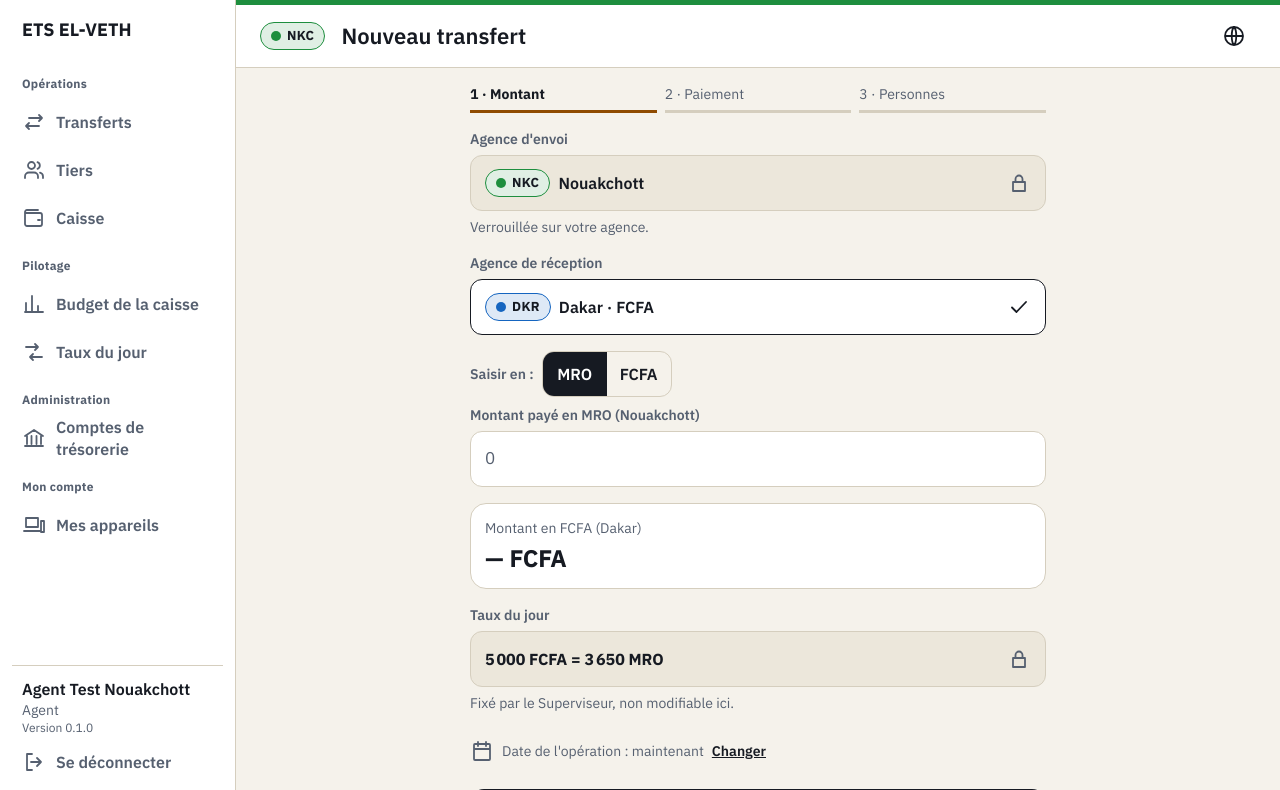
Scenario: Création d’un transfert — Agent de Nouakchott › refuse de continuer tant que la répartition ne fait pas le total
Type "912 500" into the field labelled "Montant payé en MRO (Nouakchott)" at x=758, y=459, box [471, 433, 1045, 485]
(page scrolled)
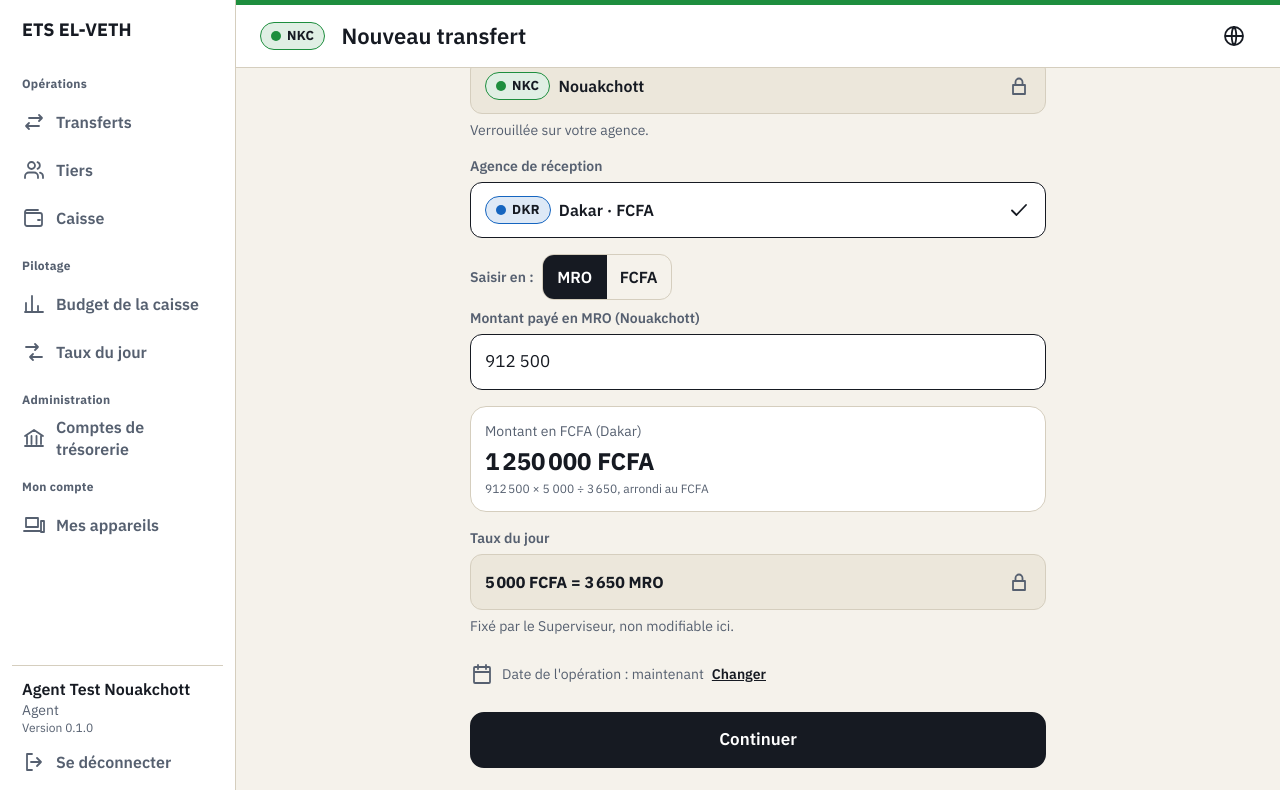
Check: the text "1 250 000 FCFA" is shown, box [485, 445, 654, 477]
Click the button "Continuer" at x=758, y=740, box [470, 712, 1046, 768]
(page scrolled)
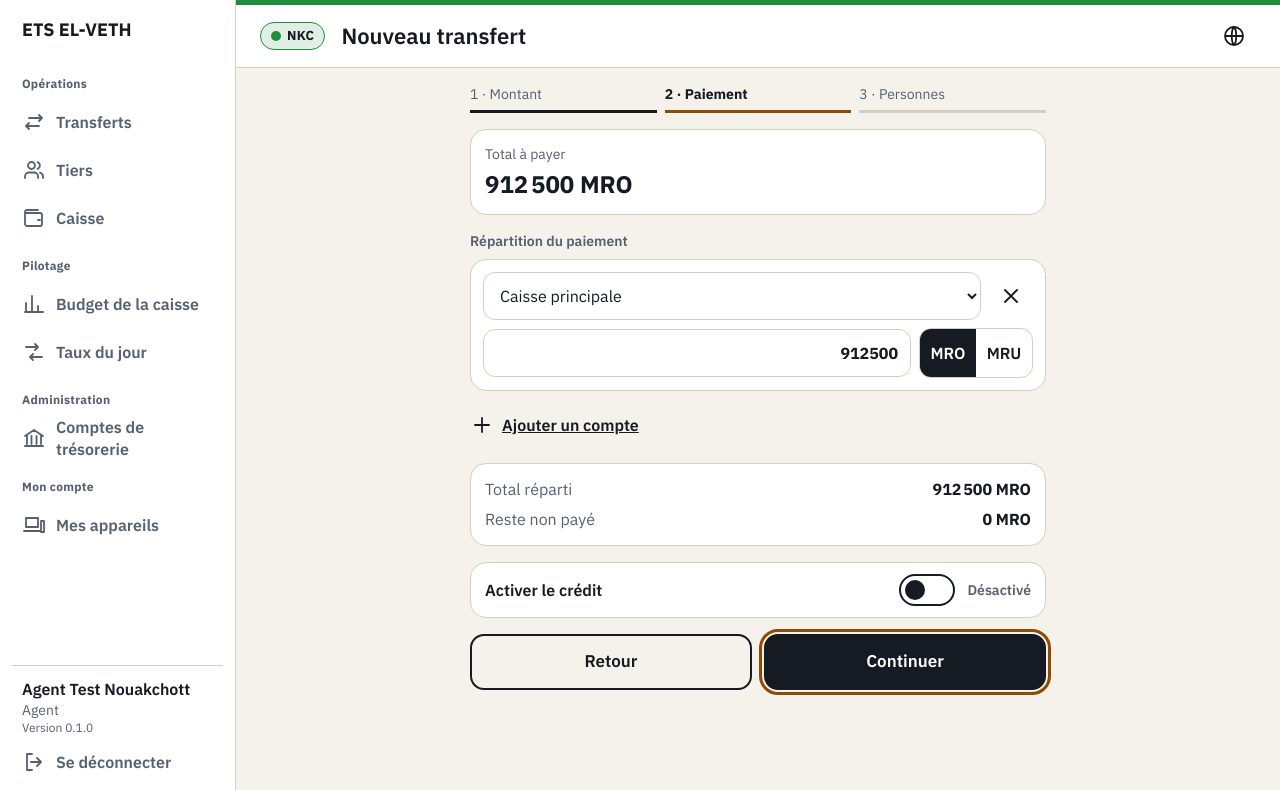
Replace the text in the field named "Montant de la ligne 1" with "800000" at x=697, y=353, box [483, 329, 911, 377]
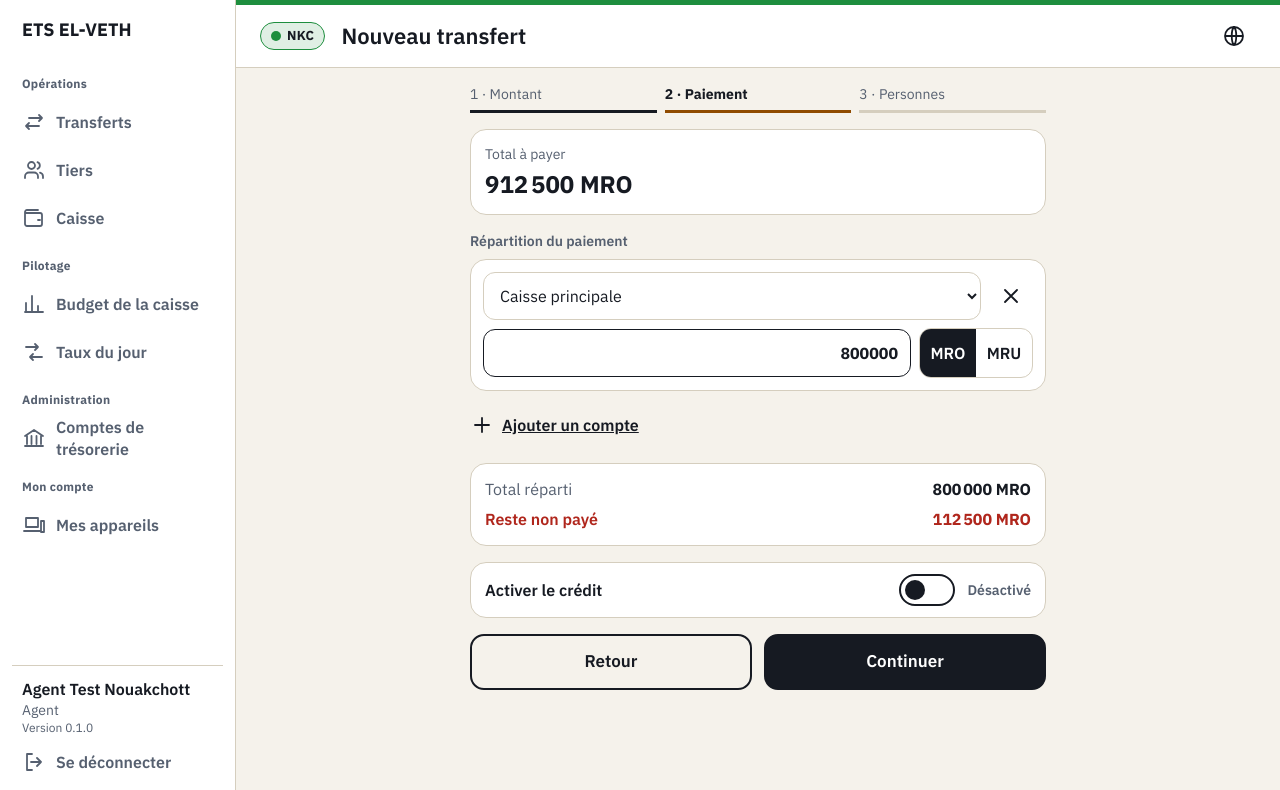
Check: the text "112 500 MRO" is shown, box [933, 508, 1031, 531]
Click the button "Continuer" at x=905, y=662, box [764, 634, 1046, 690]
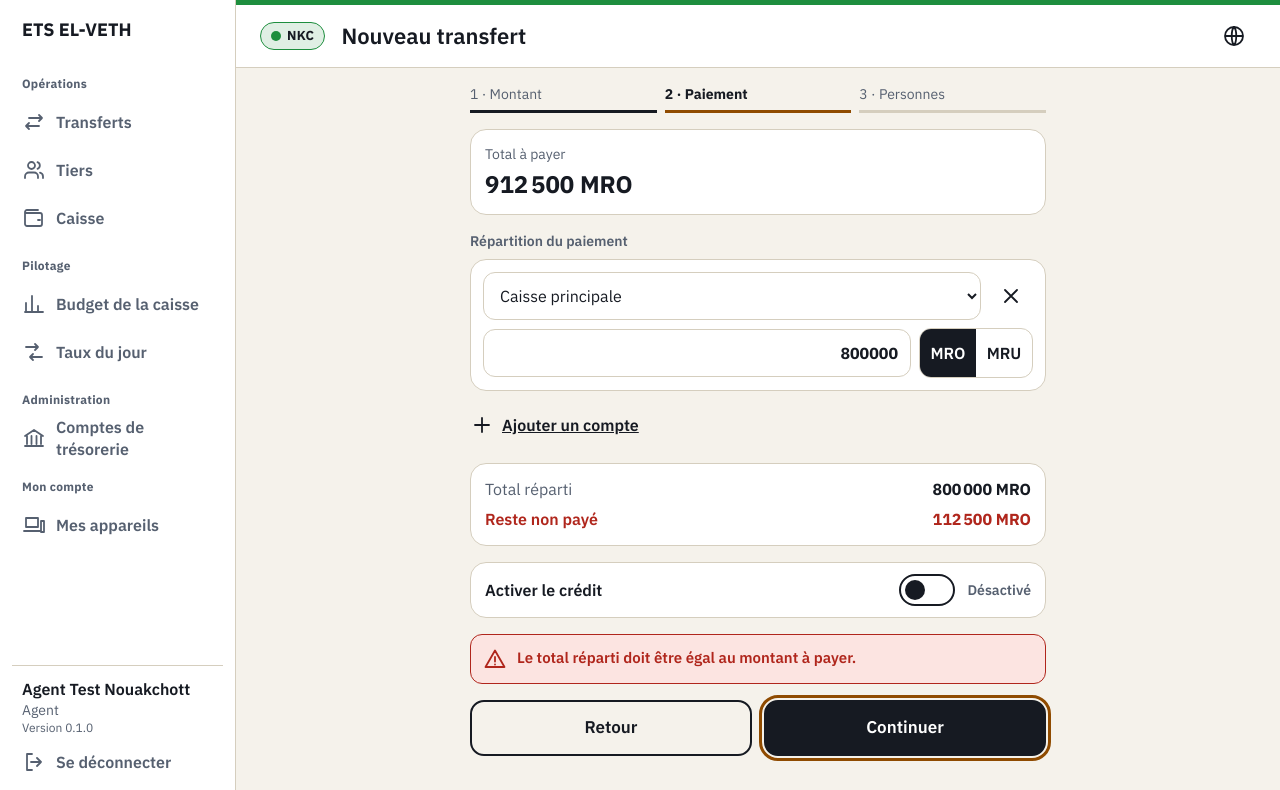
Check: the text "Le total réparti doit être égal au montant à payer." is shown, box [517, 647, 856, 671]
